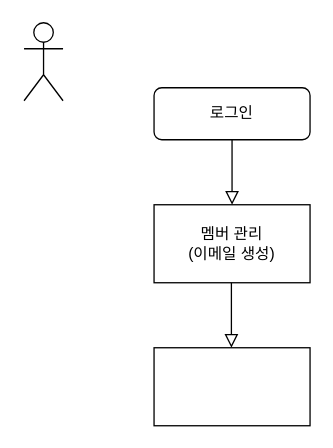
The diagram is 333 pixels wide and 448 high, and some of its shapes have lost their labels. The shapes that lost their labels are listed below. From the top down, each one's box as (x1, y1, x2, y2) in pixels, then its label:
(23, 21, 63, 101): 관리자
(153, 346, 310, 426): 멤버
